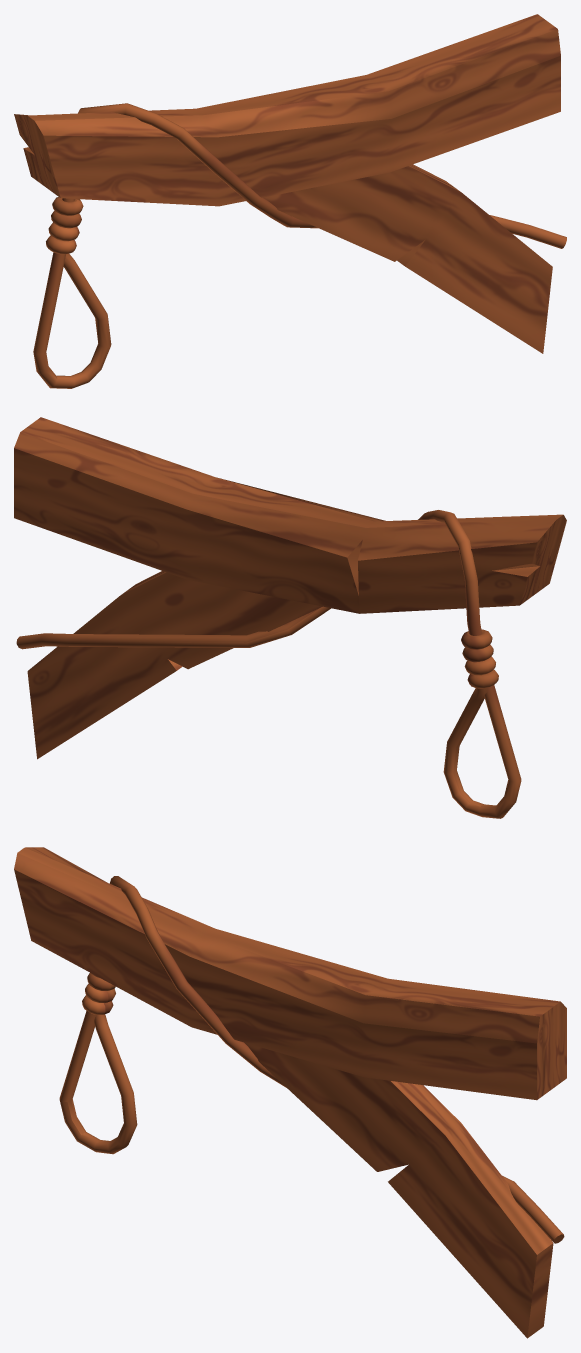
The model's file is SM_Lantern_Holder 1.fbx.
3 renders of one model, top to bottom at view 1: azimuth 30°, elevation 25°; view 2: azimuth 150°, elevation 25°; view 3: azimuth 330°, elevation 25°, orthographic.
Parts seen in each view (by area): view 1: SM_Lantern_Wall_Holder; view 2: SM_Lantern_Wall_Holder; view 3: SM_Lantern_Wall_Holder.
Boxes of the visible parts, x1=… form: SM_Lantern_Wall_Holder: x1=14, y1=14, x2=566, y2=388; SM_Lantern_Wall_Holder: x1=14, y1=417, x2=566, y2=818; SM_Lantern_Wall_Holder: x1=14, y1=847, x2=566, y2=1338.
Size of the model in its own units: 152 by 96.37 by 23.32.
